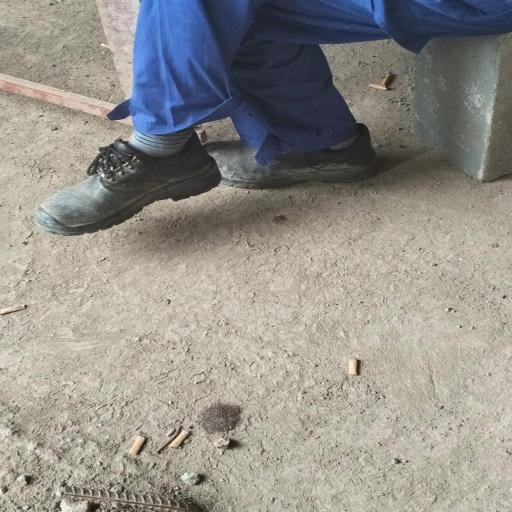safety_shoe: (40, 134, 221, 239), (207, 120, 380, 185)
